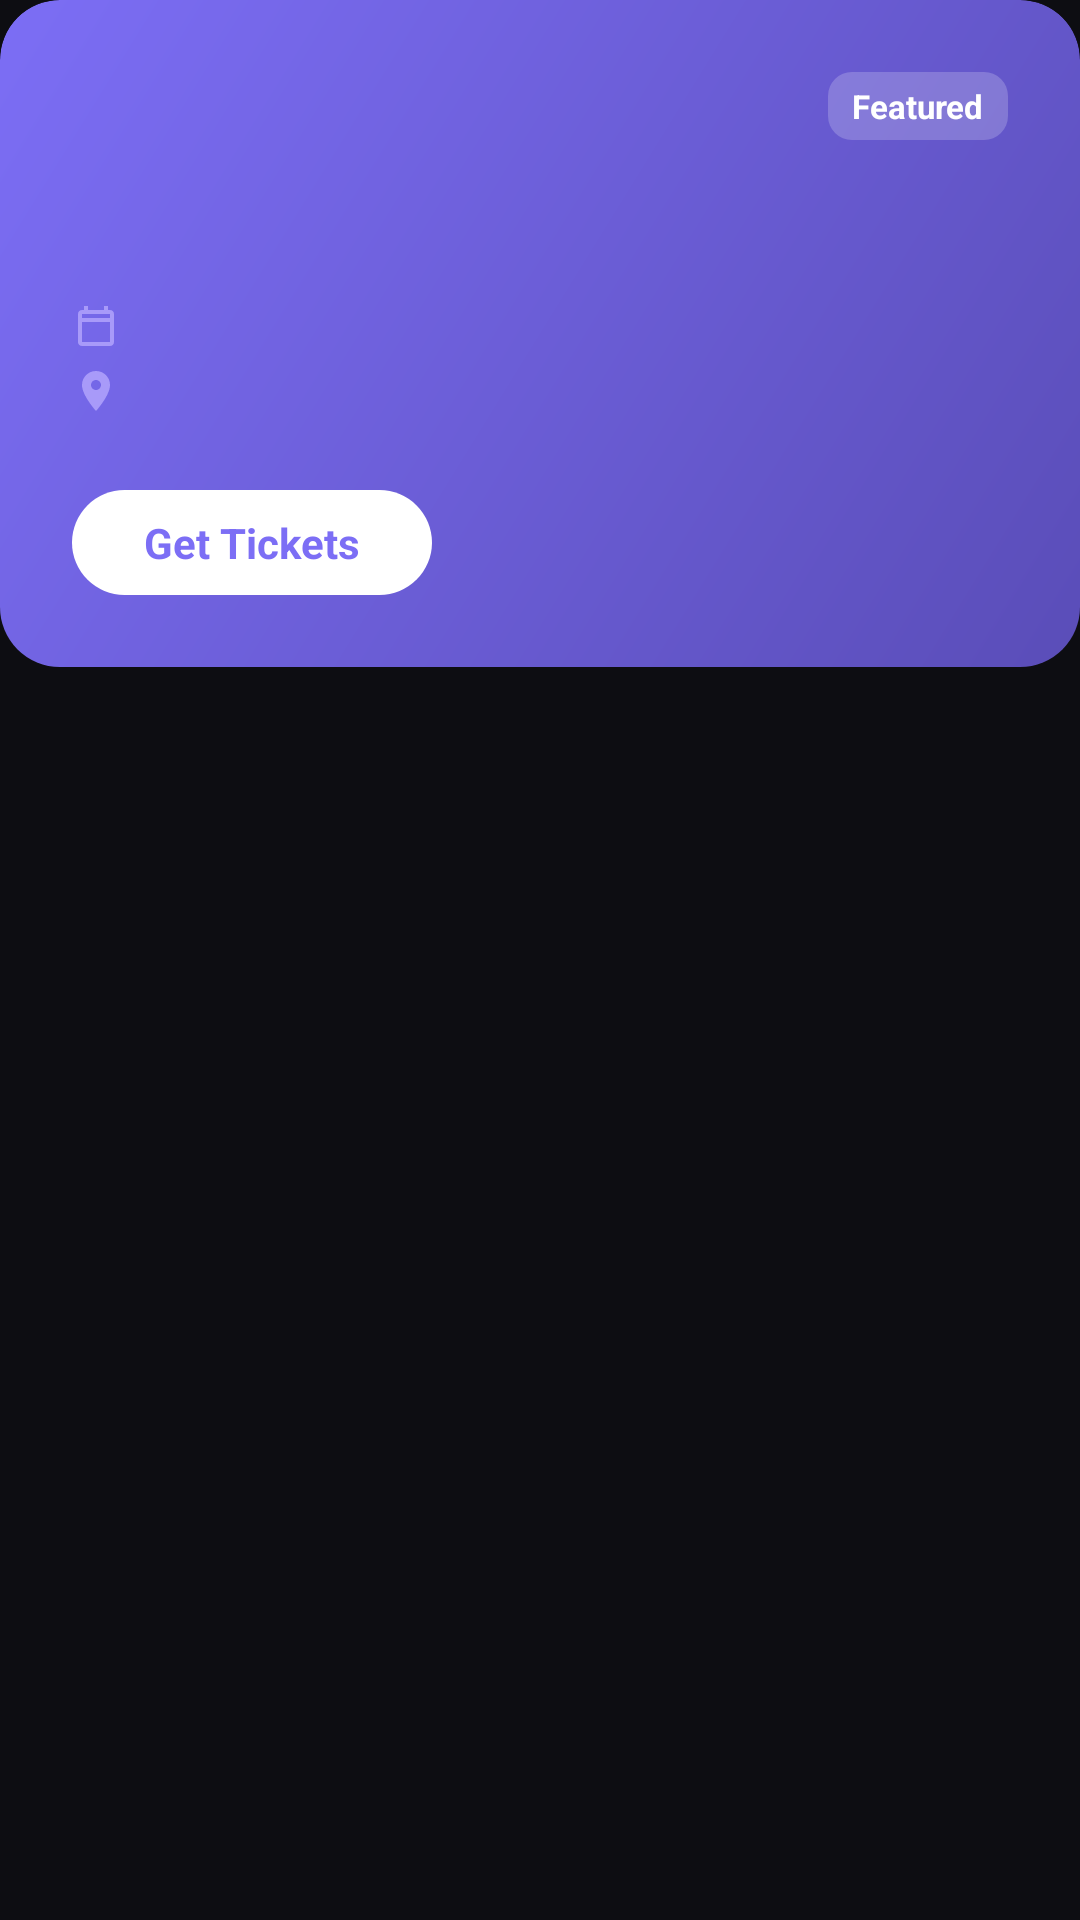

Point at icon controls on the screen. Image size 1080*1920, points as [x,y].
calendar: [96,326]
location: [96,390]
